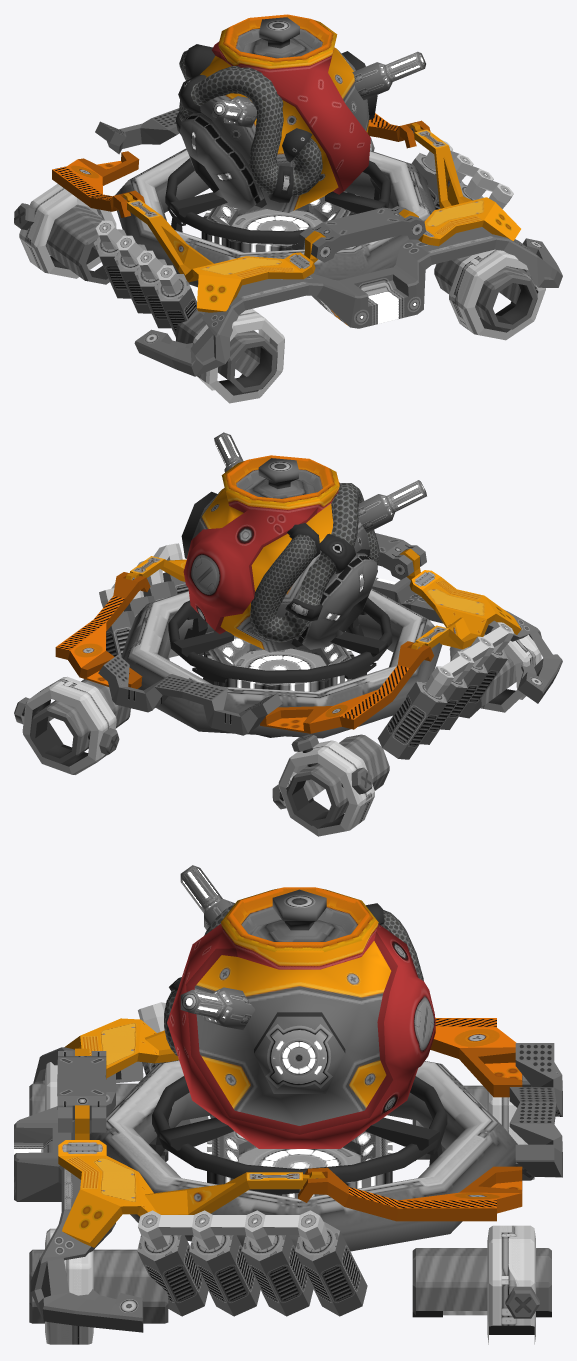
Rendered from electrolyzer-1.glb.
3 views of the same model, one above another, from view 1: azimuth 30°, elevation 25°; view 2: azimuth 150°, elevation 25°; view 3: azimuth 270°, elevation 25° (orthographic). The views are drawn at different scales.
Visible parts, largest first — view 1: Plane.005; view 2: Plane.005; view 3: Plane.005.
Part boxes in pixels (<box>): Plane.005: <box>14,14,562,403</box>; Plane.005: <box>14,432,562,836</box>; Plane.005: <box>14,865,562,1344</box>.
Size of the model in its own units: 47.24 by 30.43 by 42.36.
Materials: 1 (1 with a texture image).
